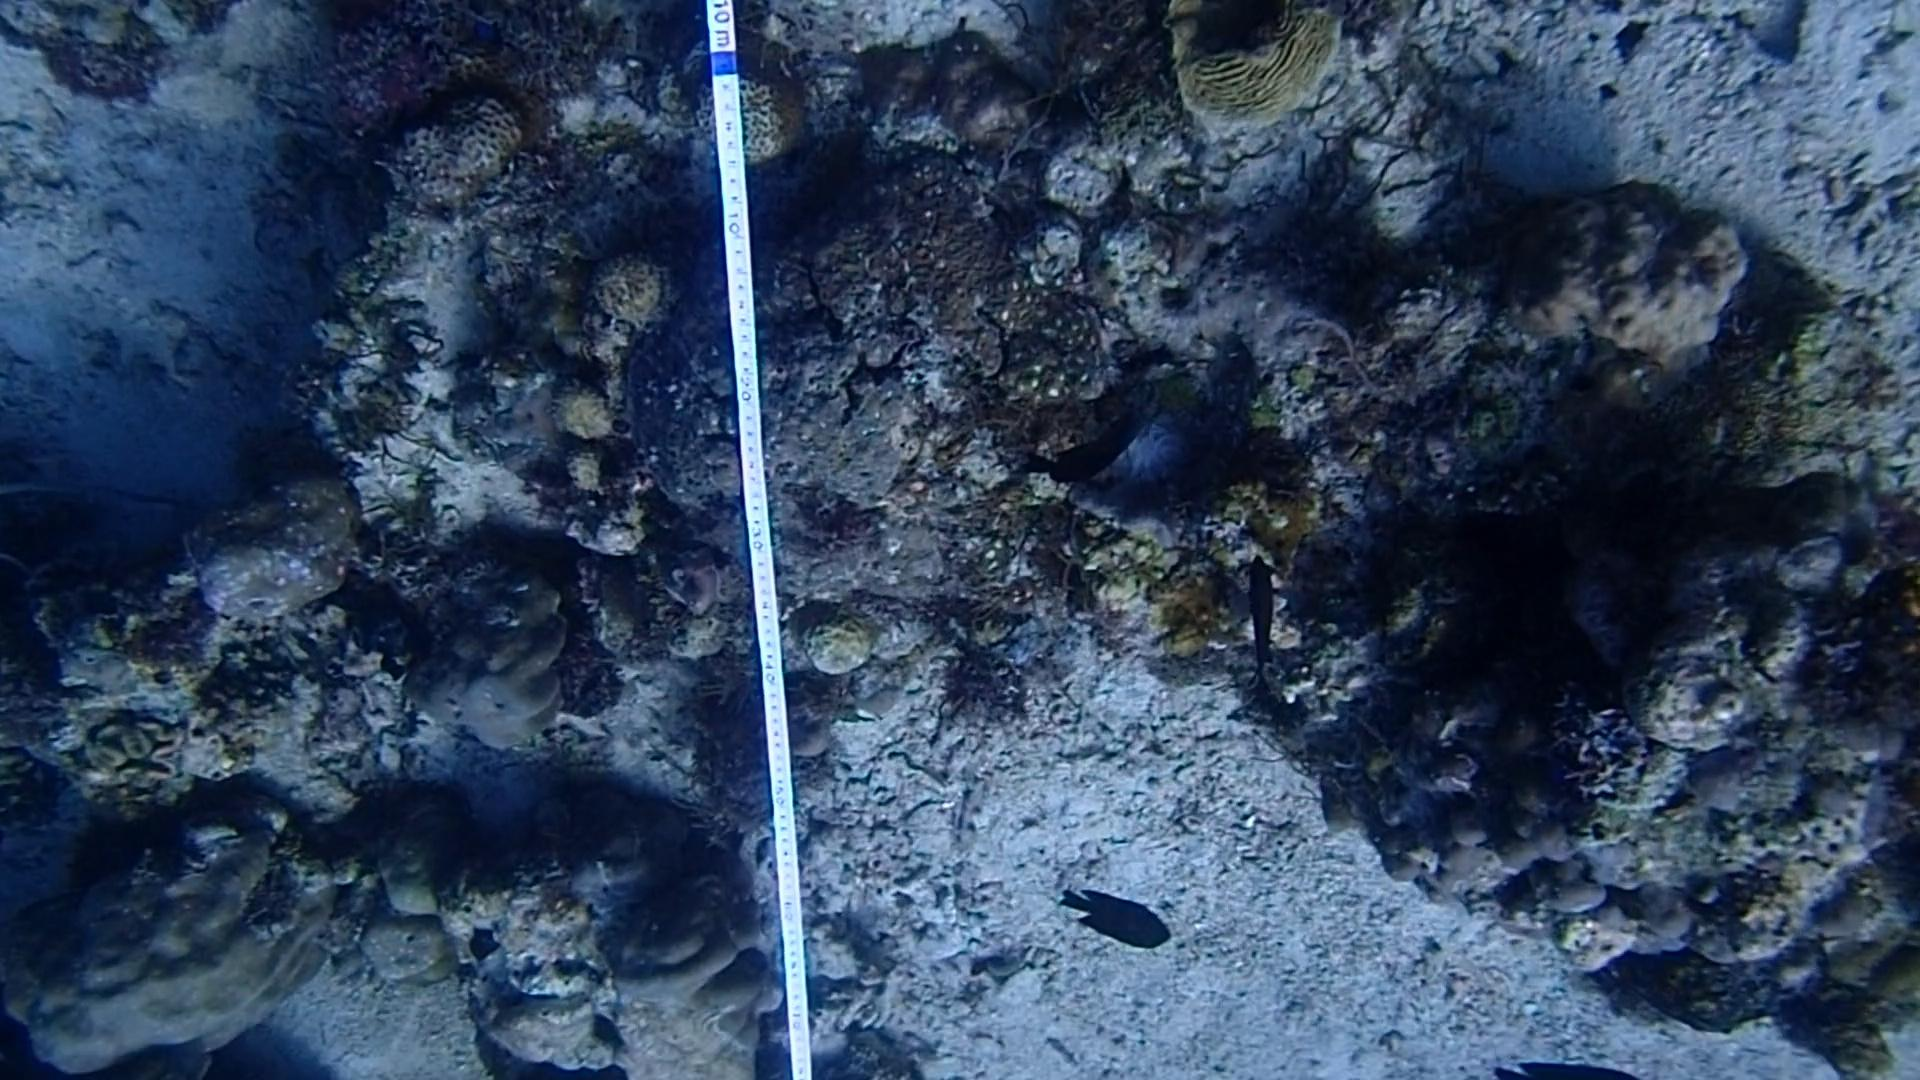Dark Fish: (1010, 411, 1163, 505), (1056, 872, 1185, 965), (1242, 547, 1302, 721)
